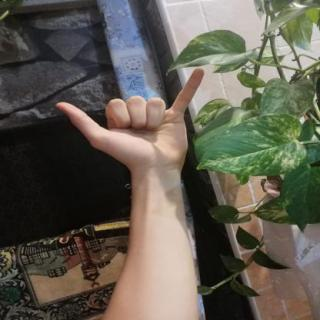YA: (45, 62, 214, 179)
